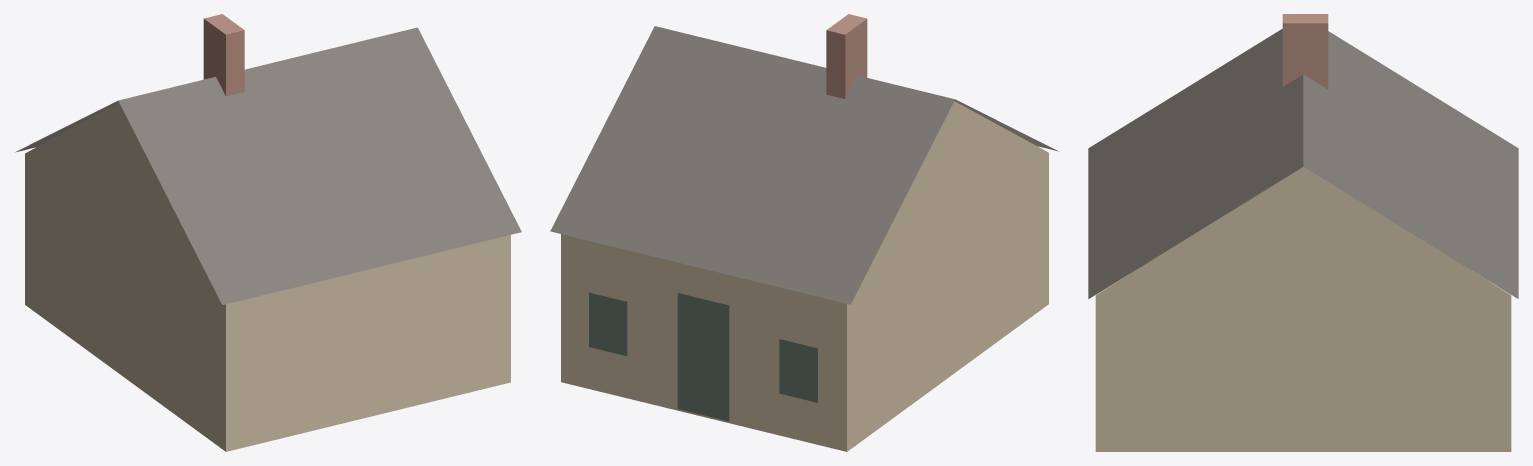
Rendered from recon_1835_north_d3_002__recommended_1835 2.glb.
3 views of the same model, side by side, from view 1: azimuth 30°, elevation 25°; view 2: azimuth 150°, elevation 25°; view 3: azimuth 270°, elevation 25° (orthographic). The views are drawn at different scales.
Parts seen in each view (by area): view 1: recon_1835_north_d3_002__recommended_1835; view 2: recon_1835_north_d3_002__recommended_1835; view 3: recon_1835_north_d3_002__recommended_1835.
Part boxes in pixels (box(x1,y1,x2,y2)): recon_1835_north_d3_002__recommended_1835: box(15, 14, 521, 451); recon_1835_north_d3_002__recommended_1835: box(550, 14, 1058, 451); recon_1835_north_d3_002__recommended_1835: box(1088, 14, 1518, 451).
Bounding box in the file's own units: 5.77 × 6.05 × 6.95.
